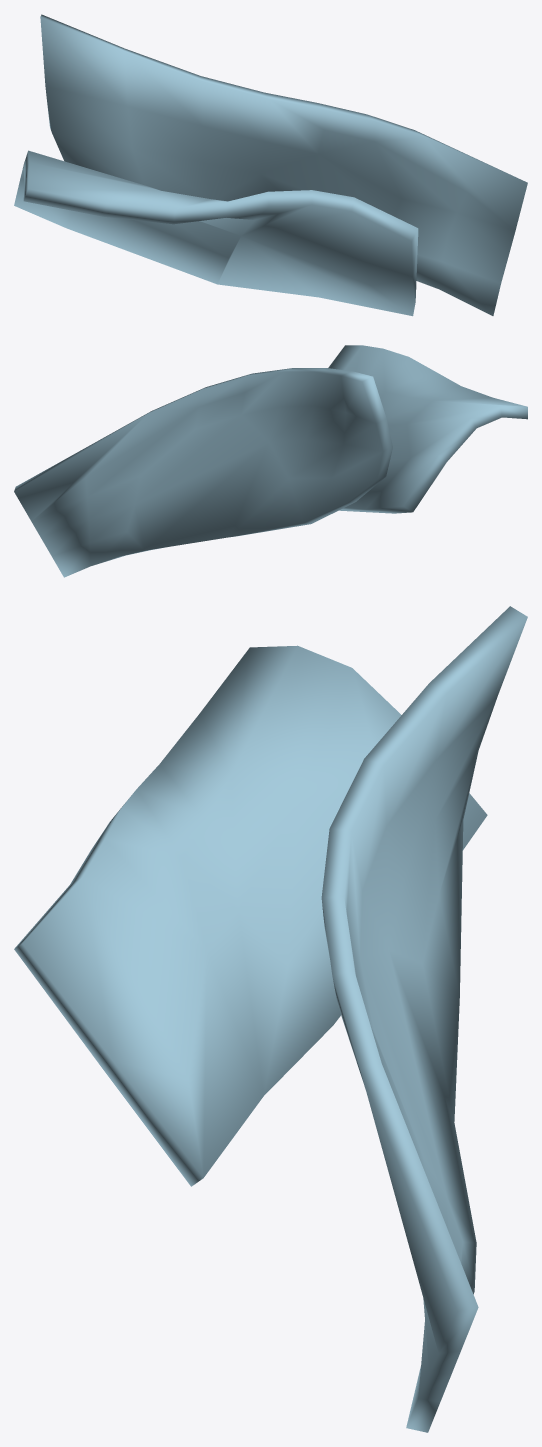
File: articulacoes-talocalcaneal-interosseous-ligament-l.glb
3 views of the same model, one above another, from view 1: azimuth 30°, elevation 25°; view 2: azimuth 150°, elevation 25°; view 3: azimuth 270°, elevation 25° (orthographic). The views are drawn at different scales.
Visible parts, largest first — view 1: Talocalcaneal interosseous ligament.l; view 2: Talocalcaneal interosseous ligament.l; view 3: Talocalcaneal interosseous ligament.l.
Part boxes in pixels (x1,y1,x2,y2): Talocalcaneal interosseous ligament.l: (14, 14, 527, 316); Talocalcaneal interosseous ligament.l: (14, 345, 527, 577); Talocalcaneal interosseous ligament.l: (14, 606, 527, 1432).
Bounding box in the file's own units: 0.021 × 0.0131 × 0.0114.
